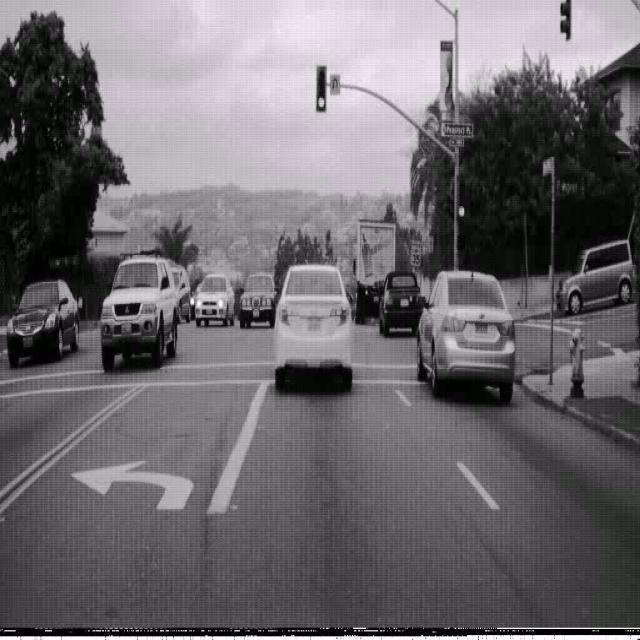speedLimit35: (409, 238, 422, 268)
